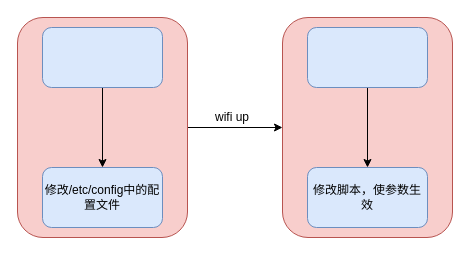
The diagram is 470 pixels wide and 255 high, and some of its shapes have lost their labels. Each missing label, with the centre of its shape:
netifd读取配置: point 367,57
UCI指令: point 102,57
